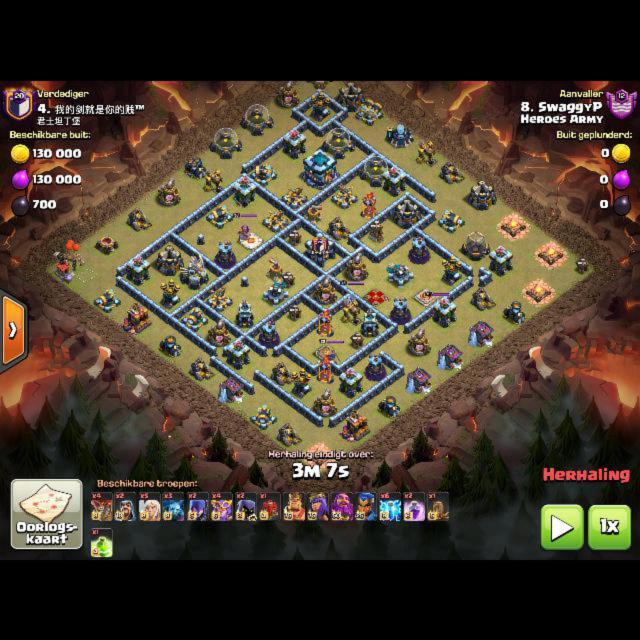AD: (310, 91, 331, 122), (291, 367, 312, 398), (441, 255, 462, 286), (160, 278, 181, 309)
AirSweeper: (265, 255, 285, 279), (302, 201, 322, 223)
BombTower: (361, 308, 378, 336), (236, 298, 253, 326)
Canon: (355, 98, 383, 124), (249, 405, 277, 430), (181, 306, 208, 330), (93, 287, 120, 311), (437, 209, 465, 232), (250, 163, 277, 186), (206, 205, 233, 228)
ClanCastle: (304, 230, 334, 267)
Eagle: (180, 253, 209, 290)
Inferno: (317, 355, 334, 383), (317, 310, 334, 337), (361, 192, 378, 219)
KingPad: (414, 288, 438, 305)
Mortar: (503, 300, 526, 324), (378, 395, 401, 418), (159, 334, 182, 356), (184, 157, 207, 179)
QueenPad: (364, 287, 389, 305)
RcPad: (316, 345, 336, 361)
Scattershot: (387, 262, 414, 287), (263, 279, 288, 306)
TH13: (302, 146, 336, 189)
WardenPad: (240, 231, 262, 247)
WizzTower: (259, 319, 280, 347), (365, 352, 386, 380), (409, 235, 429, 263), (215, 240, 235, 268), (390, 296, 410, 324)
Xbow: (331, 182, 358, 208), (206, 285, 233, 311), (281, 186, 308, 209), (262, 209, 289, 232)
